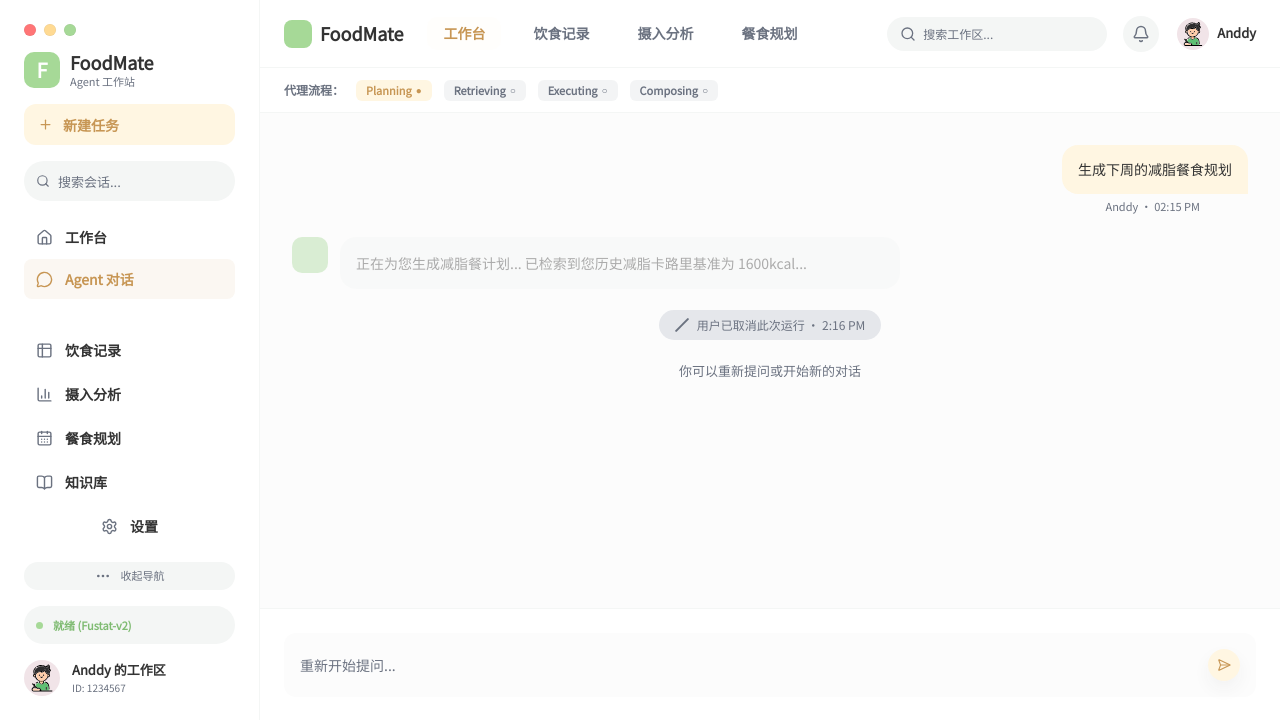
ChatPage Agent remaining states › distinguishes user cancellation from a system failure
Check: the text "用户已取消此次运行 · 2:16 PM" is shown, box [697,317,865,333]
Check: the text "正在为您生成减脂餐计划... 已检索到您历史减脂卡路里基准为 1600kcal..." is shown, box [340,237,900,289]
In the field with placeholder "重新开始提问...": (748, 665) [300,649,1196,681], type "重新开始"
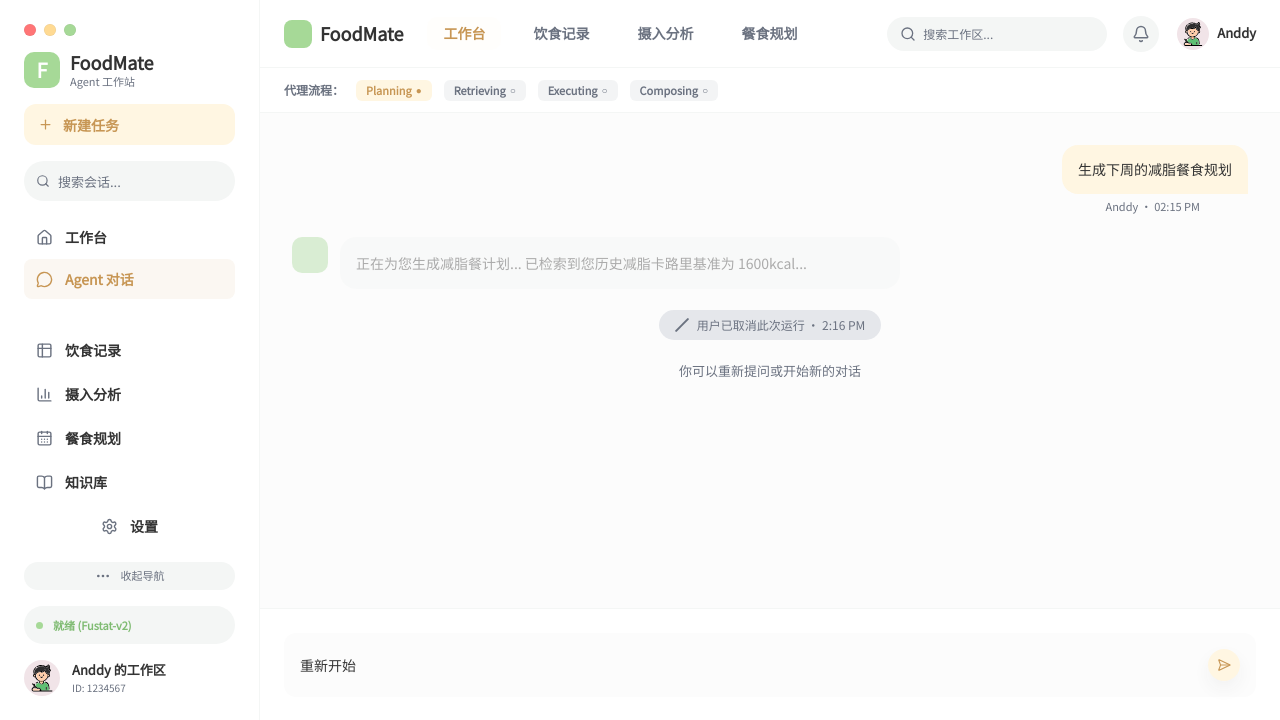
Click the button named "发送消息": (1224, 665) [1208,649,1240,681]
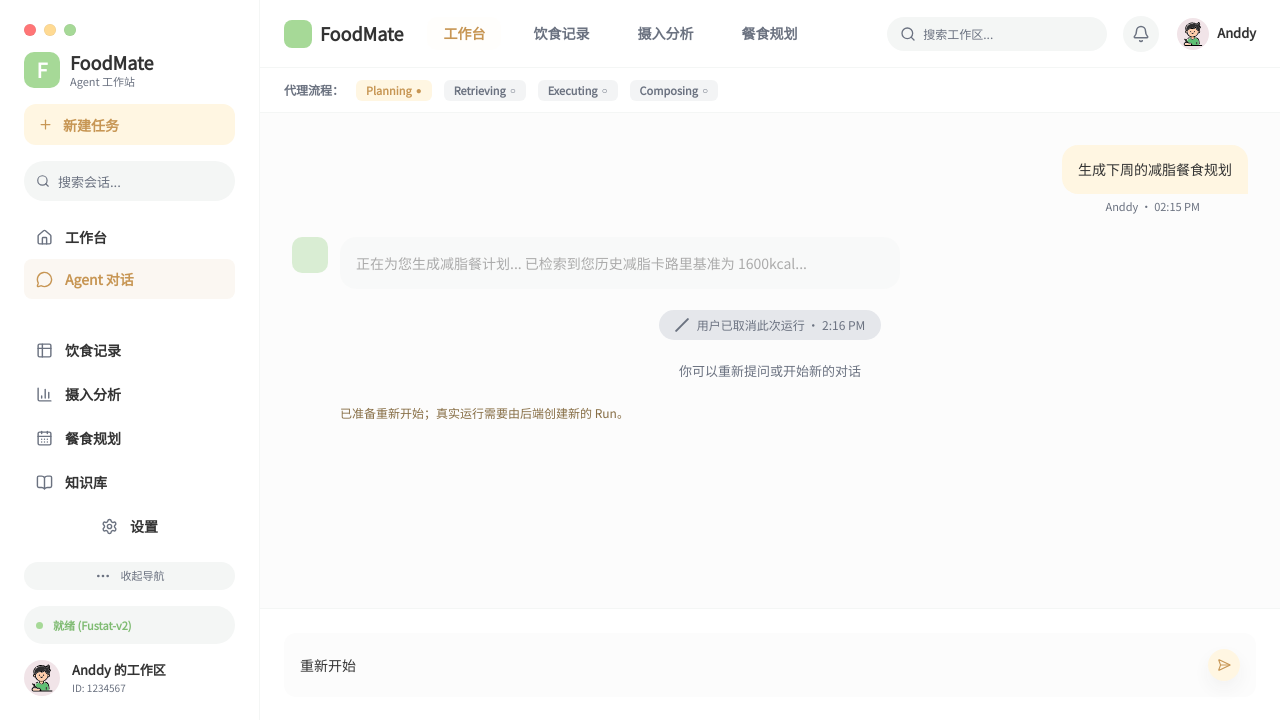
Check: the message shows "新的 Run", box [340,404,629,421]
